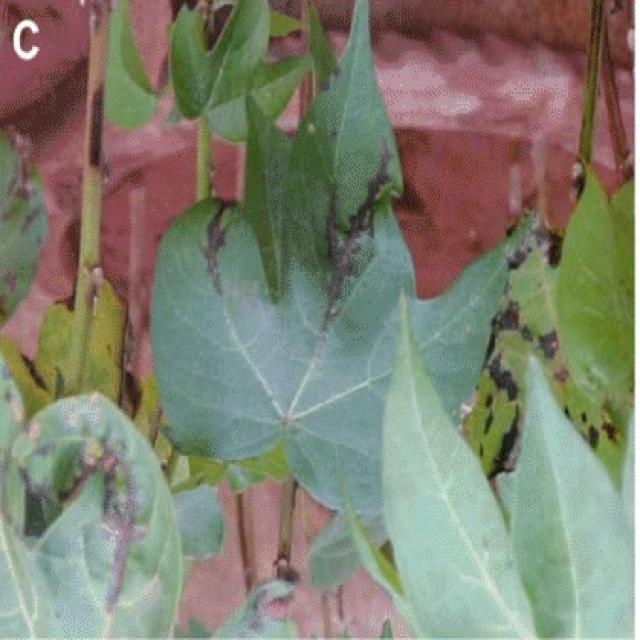Bacterial Blight: (197, 122, 410, 330)
